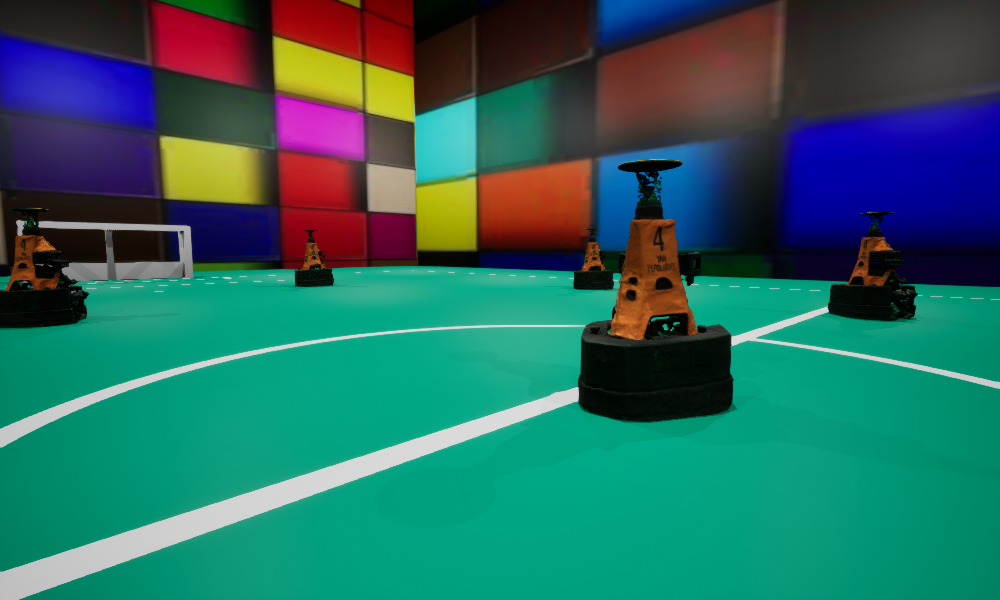0 orange robot TechUnited: (578, 159, 733, 421), (0, 208, 88, 327), (828, 212, 917, 320), (573, 228, 613, 289), (295, 230, 333, 286)
